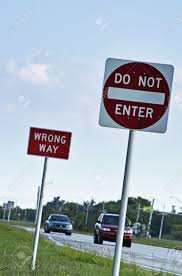doNotEnter: (99, 53, 170, 135)
